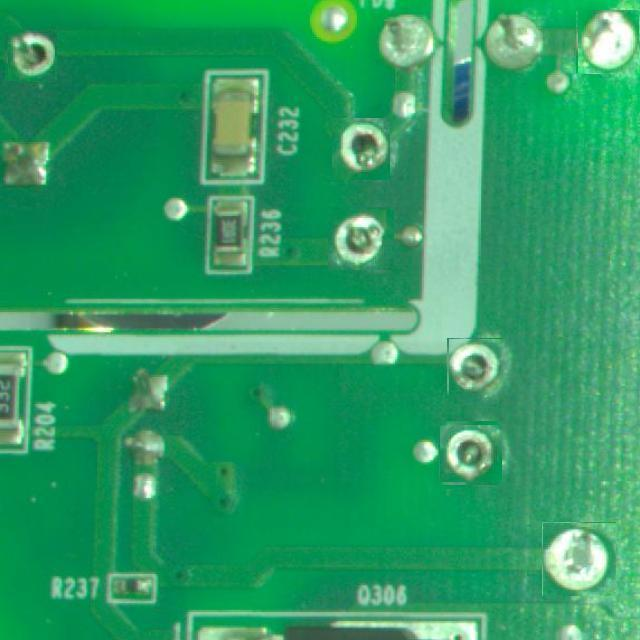lack_of_part: (542, 522, 616, 596), (329, 209, 393, 272), (576, 11, 640, 74), (440, 423, 501, 484), (331, 119, 392, 179), (448, 338, 503, 395), (6, 31, 56, 81)
